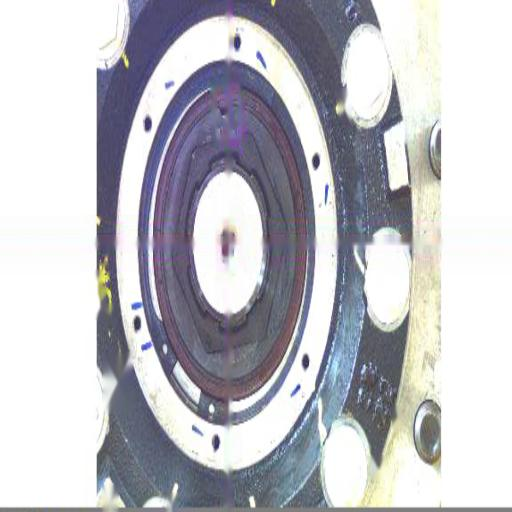center: (219, 233, 233, 267)
notch: (216, 100, 230, 122)
